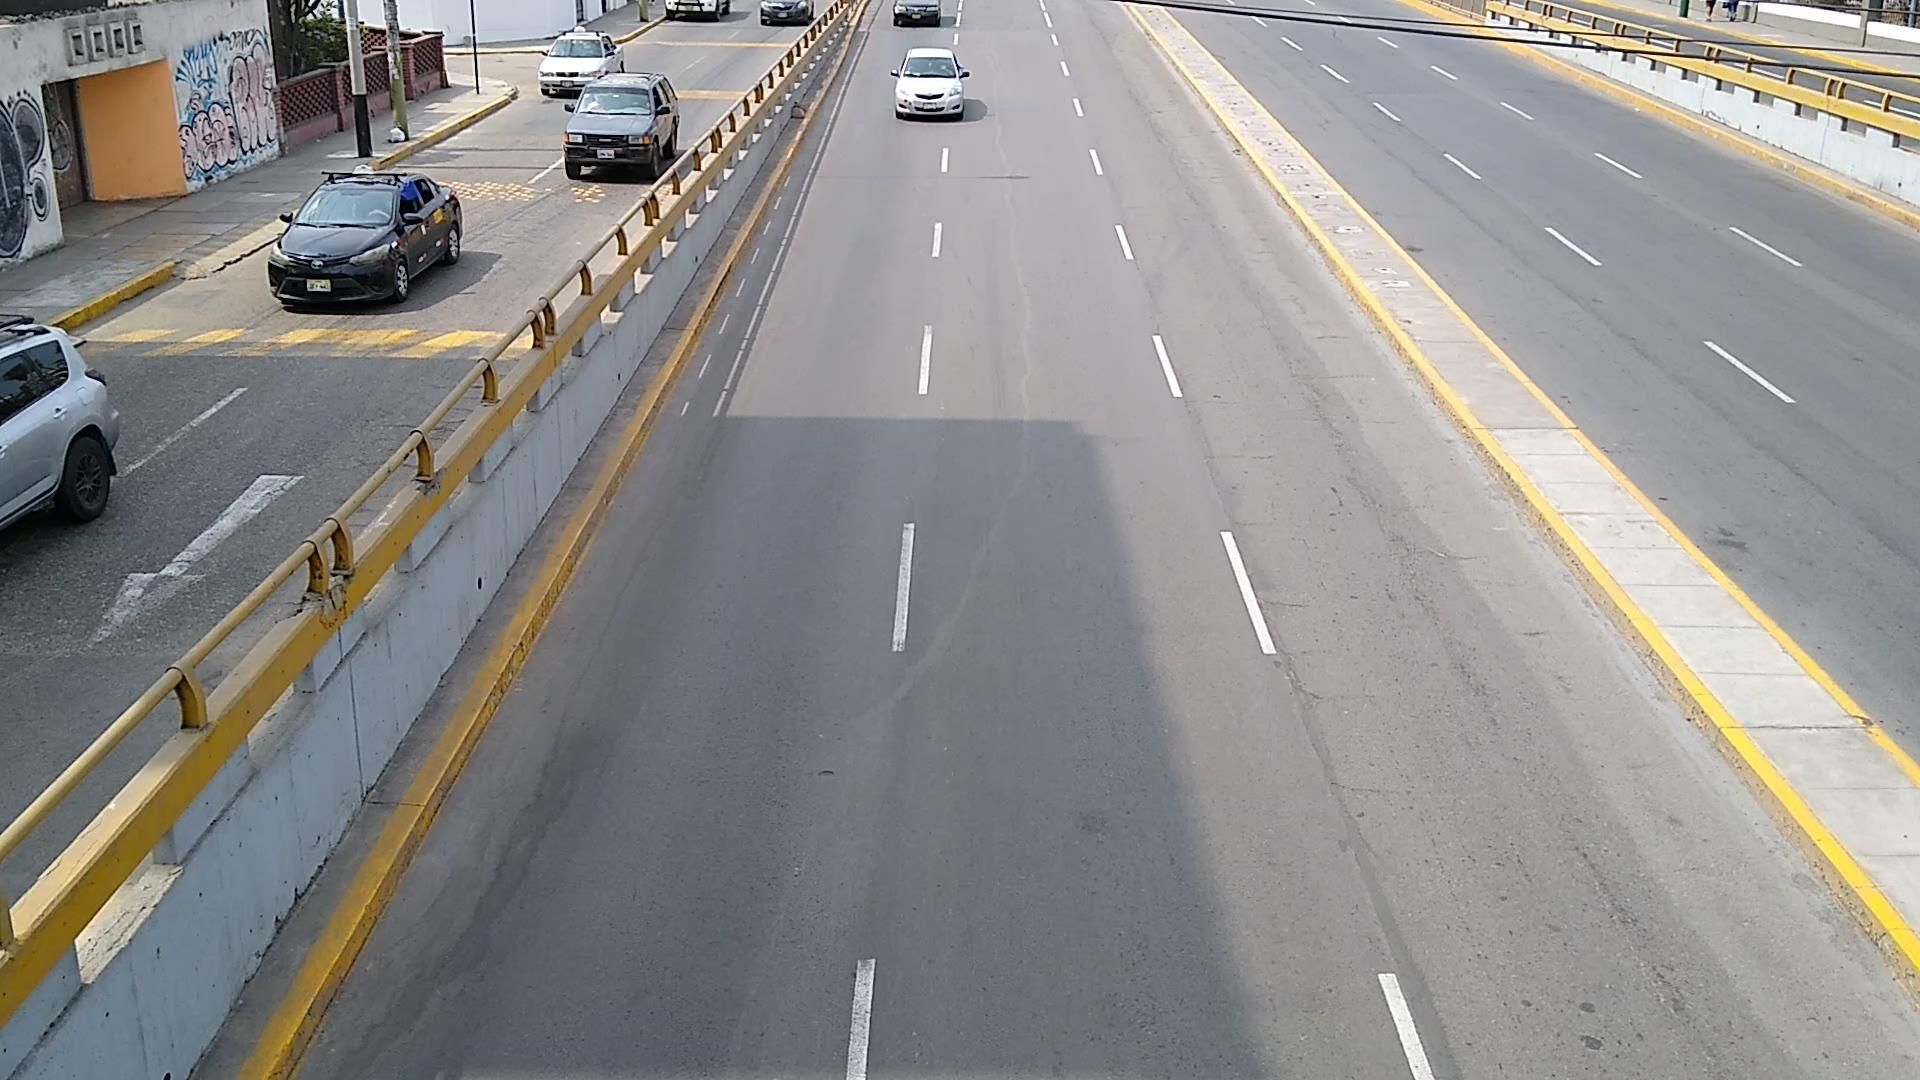car: (266, 173, 462, 307), (563, 71, 679, 179), (537, 30, 622, 92), (893, 49, 968, 115)
